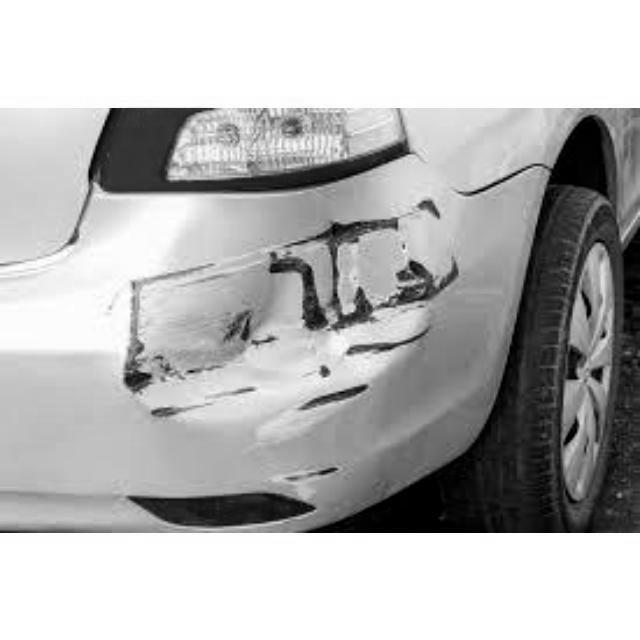rear-bumper-dent: (1, 145, 566, 522)
